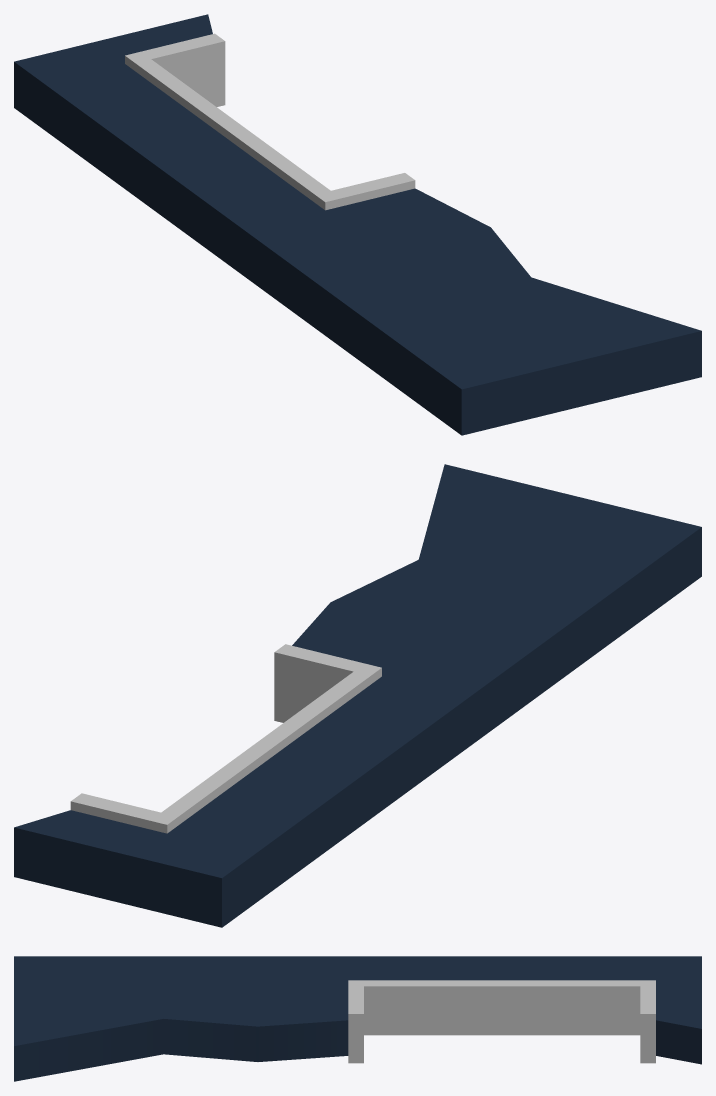
File: Door 03.FBX
3 renders of one model, top to bottom at view 1: azimuth 30°, elevation 25°; view 2: azimuth 150°, elevation 25°; view 3: azimuth 270°, elevation 25°, orthographic. The views are drawn at different scales.
Visible parts, largest first — view 1: Door 03; view 2: Door 03; view 3: Door 03.
Part boxes in pixels (x1,y1,x2,y2): Door 03: (14,14,701,435); Door 03: (14,464,701,927); Door 03: (14,956,701,1081).
Bounding box in the file's own units: 67.35 × 17.15 × 218.
